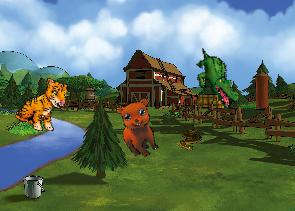bear: (108, 92, 172, 162)
crocodile: (182, 46, 251, 111)
tiger: (13, 72, 71, 136)
